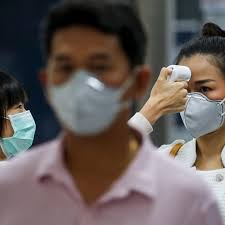masked: (41, 4, 150, 136), (172, 32, 225, 139), (1, 69, 35, 160)
